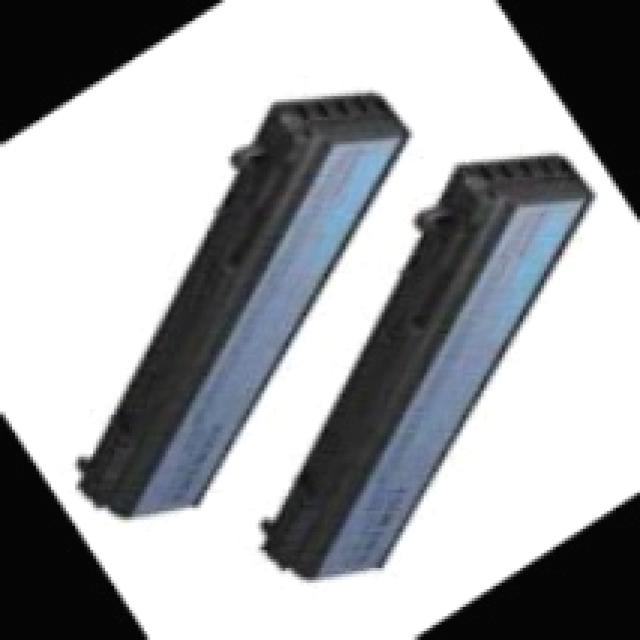elektronik: (38, 104, 436, 516), (250, 138, 571, 588)
